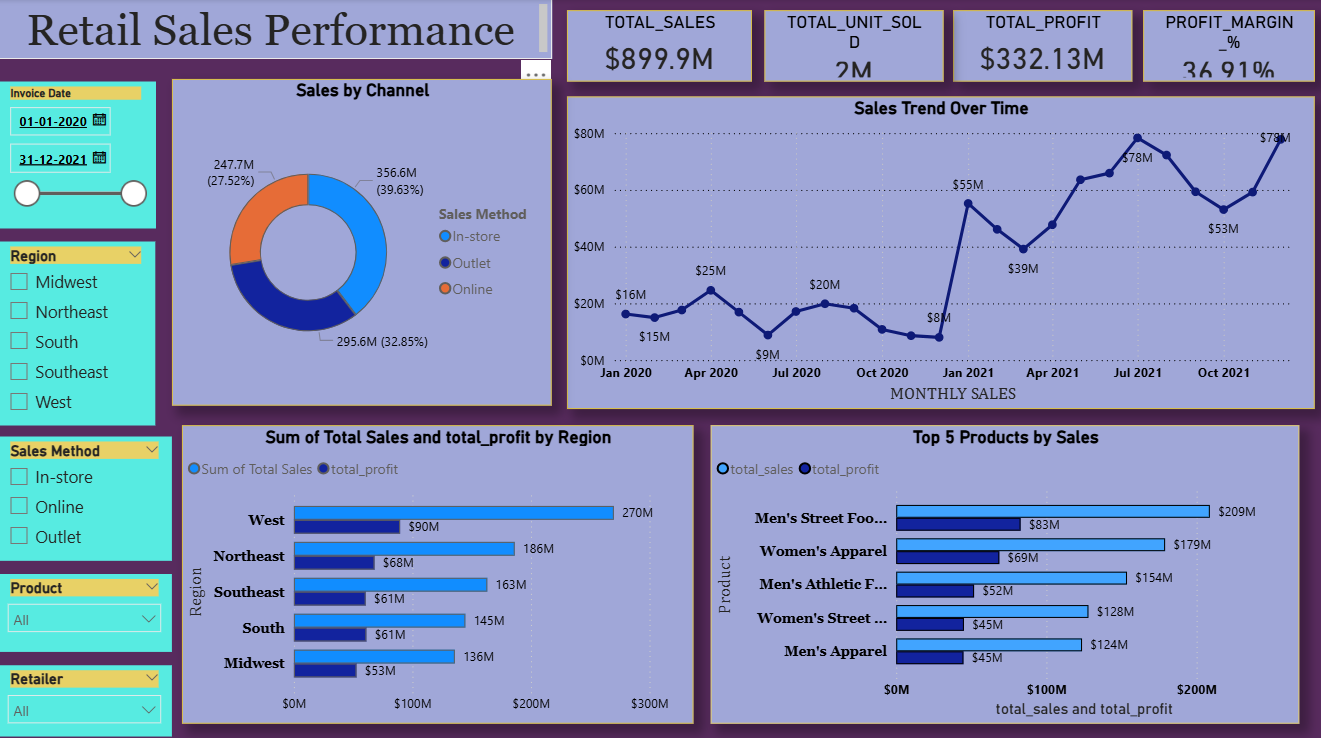

This screenshot's page, from the dashboard's own definition file:
{"tool":"powerbi","page":{"name":"Page 1","canvas":[1280,720],"ordinal":0},"visuals":[{"type":"card","title":"TOTAL_SALES","fields":{"Values":["Data_sales.total_sales"]},"box":[550.1,10.9,178.6,68.8],"z":0},{"type":"card","title":"TOTAL_PROFIT","fields":{"Values":["Data_sales.total_profit"]},"box":[922.9,10.9,172.5,68.8],"z":1000},{"type":"card","title":"TOTAL_UNIT_SOLD","fields":{"Values":["Data_sales.total_unit_sold"]},"box":[740.8,10.9,172.5,68.8],"z":2000},{"type":"card","title":"PROFIT_MARGIN_%","fields":{"Values":["Data_sales.profit_margin_%"]},"box":[1106.3,10.9,165.3,68.8],"z":3000},{"type":"textbox","box":[0,0,536.2,57.5],"z":4000},{"type":"lineChart","title":"Sales Trend Over Time","fields":{"Y":["Data_sales.total_sales"],"Category":["Data_sales.Invoice Date.Variation.Date Hierarchy.Year","Data_sales.Invoice Date.Variation.Date Hierarchy.Month"]},"box":[550,93.8,721.2,301.2],"z":5000},{"type":"clusteredBarChart","fields":{"Category":["Data_sales.Region"],"Y":["Sum(Data_sales.Total Sales)","Data_sales.total_profit"]},"box":[178.6,411.4,493.4,288.3],"z":6000},{"type":"clusteredBarChart","title":"Top 5 Products by Sales","fields":{"Category":["Data_sales.Product"],"Y":["Data_sales.total_sales","Data_sales.total_profit"]},"box":[688.9,411.4,568.2,288.3],"z":7000},{"type":"donutChart","title":"Sales by Channel","fields":{"Category":["Data_sales.Sales Method"],"Y":["Sum(Data_sales.Total Sales)"]},"box":[168.9,77.2,366.8,314.9],"z":8000},{"type":"slicer","fields":{"Values":["Data_sales.Invoice Date"]},"box":[0,80,152.5,141.2],"z":9000},{"type":"slicer","fields":{"Values":["Data_sales.Region"]},"box":[0,233.8,152.5,177.5],"z":10000},{"type":"slicer","fields":{"Values":["Data_sales.Retailer"]},"box":[0,642.5,168.8,68.8],"z":11000},{"type":"slicer","fields":{"Values":["Data_sales.Product"]},"box":[0,555,168.8,75],"z":12000},{"type":"slicer","fields":{"Values":["Data_sales.Sales Method"]},"box":[0,422.5,168.8,120],"z":13000}]}

Visuals, with their boxes in screenshot pixels (x1, y1, x2, y2), scaled from the page's 1280x720 canvas onto the 1321x738 screenshot:
"TOTAL_SALES" card: select_region(568, 11, 752, 82)
"TOTAL_PROFIT" card: select_region(952, 11, 1130, 82)
"TOTAL_UNIT_SOLD" card: select_region(765, 11, 943, 82)
"PROFIT_MARGIN_%" card: select_region(1142, 11, 1312, 82)
textbox: select_region(0, 0, 553, 59)
"Sales Trend Over Time" lineChart: select_region(568, 96, 1312, 405)
clusteredBarChart - Data_sales.Region x Sum(Data_sales.Total Sales): select_region(184, 422, 694, 717)
"Top 5 Products by Sales" clusteredBarChart: select_region(711, 422, 1297, 717)
"Sales by Channel" donutChart: select_region(174, 79, 553, 402)
slicer - Data_sales.Invoice Date: select_region(0, 82, 157, 227)
slicer - Data_sales.Region: select_region(0, 240, 157, 422)
slicer - Data_sales.Retailer: select_region(0, 659, 174, 729)
slicer - Data_sales.Product: select_region(0, 569, 174, 646)
slicer - Data_sales.Sales Method: select_region(0, 433, 174, 556)
